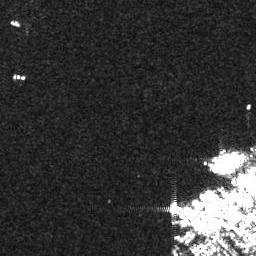ship: (13, 73, 26, 81), (10, 20, 20, 28)
